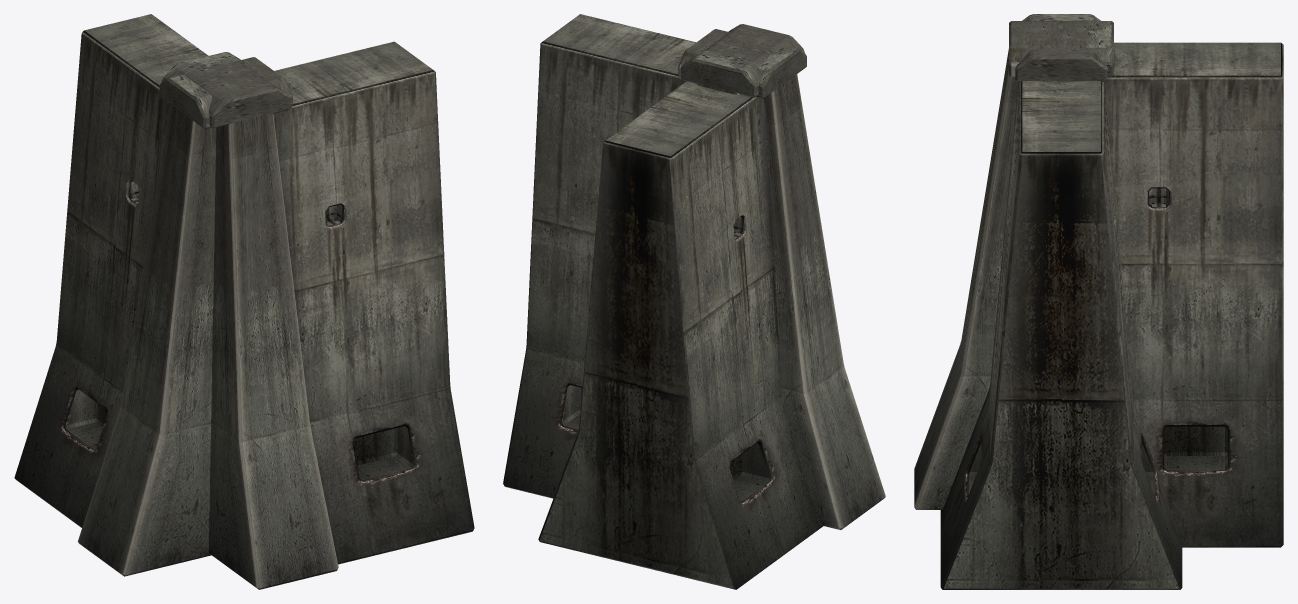
The model's file is corner.fbx.
3 renders of one model, left to right at view 1: azimuth 30°, elevation 25°; view 2: azimuth 150°, elevation 25°; view 3: azimuth 270°, elevation 25°, orthographic. The views are drawn at different scales.
Parts seen in each view (by area): view 1: Cube_cuts_2, Cube, Cube_cuts, Cube_4, Cube_1, Cube_1_4; view 2: Cube_cuts, Cube_cuts_2, Cube_4, Cube_1, Cube_1_4; view 3: Cube_cuts, Cube_cuts_2, Cube, Cube_1, Cube_1_4.
Part boxes in pixels (x1,y1,x2,y2): Cube_cuts_2: [273, 41, 474, 564]; Cube: [208, 113, 338, 589]; Cube_cuts: [14, 14, 208, 527]; Cube_4: [78, 104, 216, 576]; Cube_1: [162, 52, 290, 128]; Cube_1_4: [159, 57, 292, 129]; Cube_cuts: [538, 81, 823, 589]; Cube_cuts_2: [503, 14, 695, 498]; Cube_4: [765, 74, 885, 529]; Cube_1: [680, 24, 804, 97]; Cube_1_4: [678, 29, 806, 98]; Cube_cuts: [1104, 42, 1283, 547]; Cube_cuts_2: [940, 81, 1182, 589]; Cube: [914, 48, 1114, 509]; Cube_1: [1009, 21, 1113, 77]; Cube_1_4: [1015, 14, 1107, 81].
Bounding box in the file's own units: 166 × 230 × 166.
2 materials, 2 textured.
